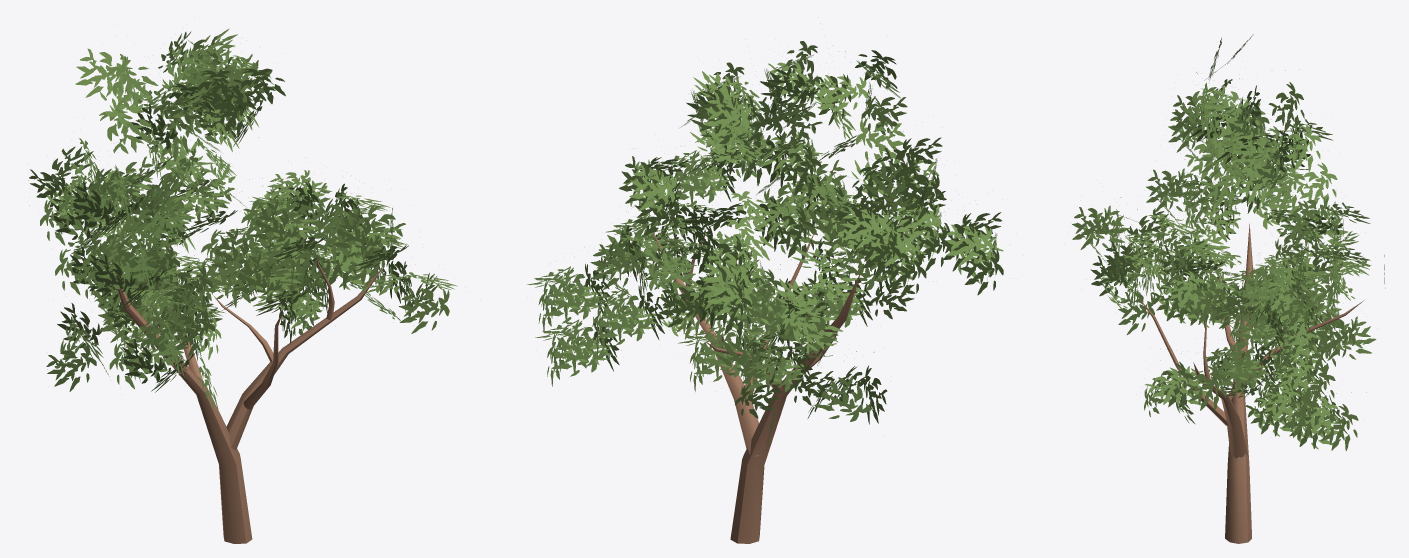
File: tree.glb
3 renders of one model, left to right at view 1: azimuth 30°, elevation 25°; view 2: azimuth 150°, elevation 25°; view 3: azimuth 270°, elevation 25°, orthographic. The views are drawn at different scales.
Visible parts, largest first — view 1: Object_2; view 2: Object_2; view 3: Object_2.
Boxes of the visible parts, left/top/right/bottom form: Object_2: left=28, top=28, right=457, bottom=543; Object_2: left=527, top=41, right=1003, bottom=543; Object_2: left=1072, top=34, right=1385, bottom=543.
Size of the model in its own units: 5.89 by 7.27 by 4.79.
Materials: 1 (1 with a texture image).
